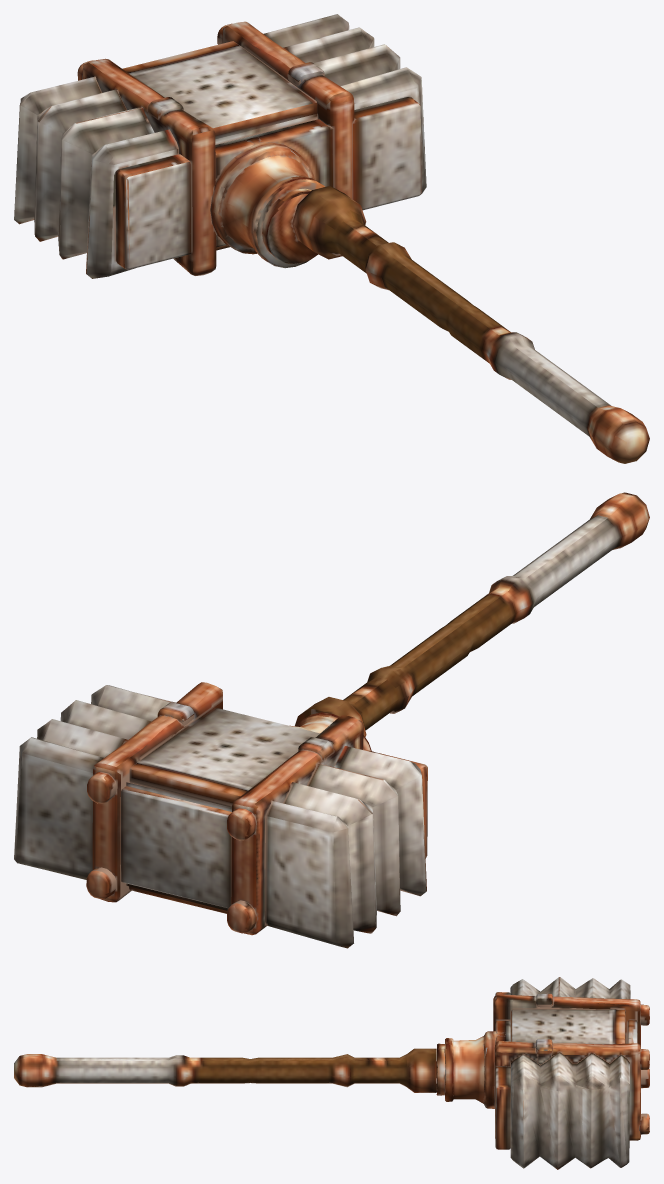
The model's file is item_mm9_10197.glb.
3 views of the same model, one above another, from view 1: azimuth 30°, elevation 25°; view 2: azimuth 150°, elevation 25°; view 3: azimuth 270°, elevation 25° (orthographic). The views are drawn at different scales.
Parts seen in each view (by area): view 1: d10197; view 2: d10197; view 3: d10197.
Boxes of the visible parts, x1,y1,x2,y2 form: d10197: [14, 14, 649, 463]; d10197: [14, 492, 649, 948]; d10197: [14, 977, 649, 1169].
Size of the model in its own units: 57.25 by 23.96 by 138.
Materials: 1 (1 with a texture image).
